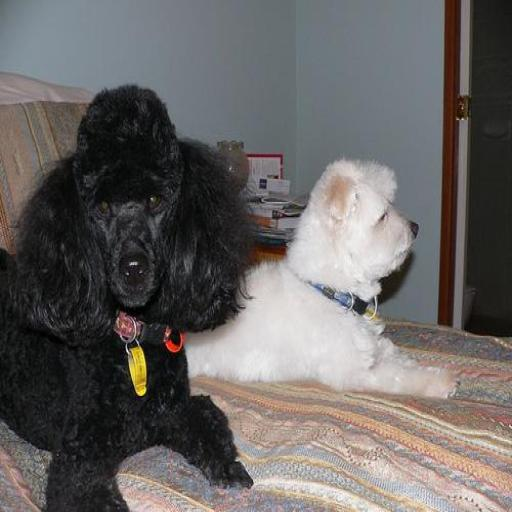dog_face: (310, 172, 420, 296)
